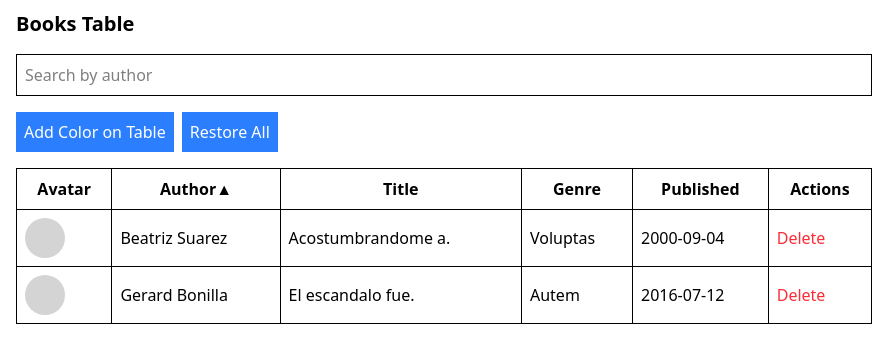
it: BookPage › deletes a book and restores the list
Click the button "Delete" in the row of "Gerard Bonilla": (801,295) [777,283,825,307]
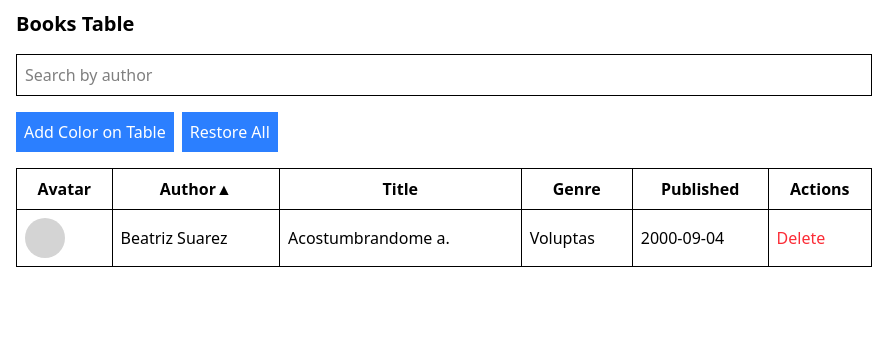
Result: the text "Gerard Bonilla" is gone
Click the button "Restore All": (230,132) [182,112,278,152]
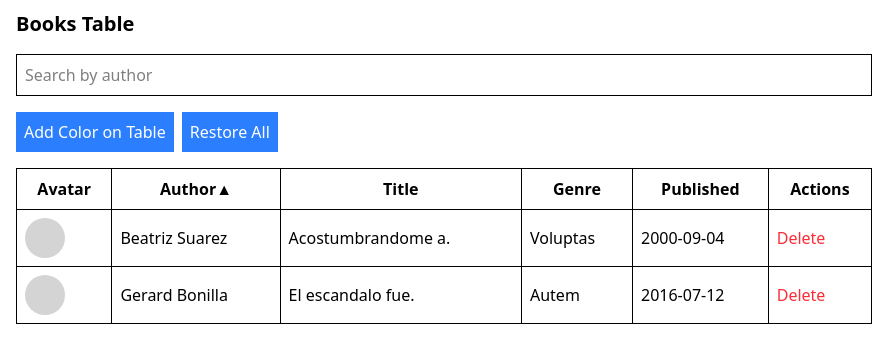
Result: the text "Gerard Bonilla" is shown at [112,266,280,324]
